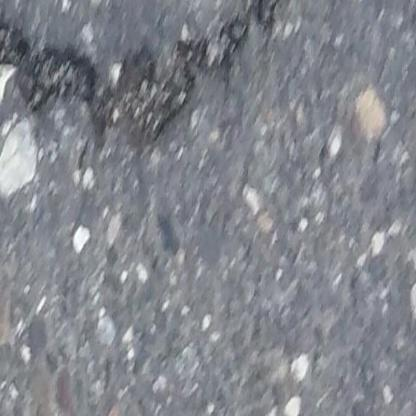Cracks: (0, 0, 302, 148)
